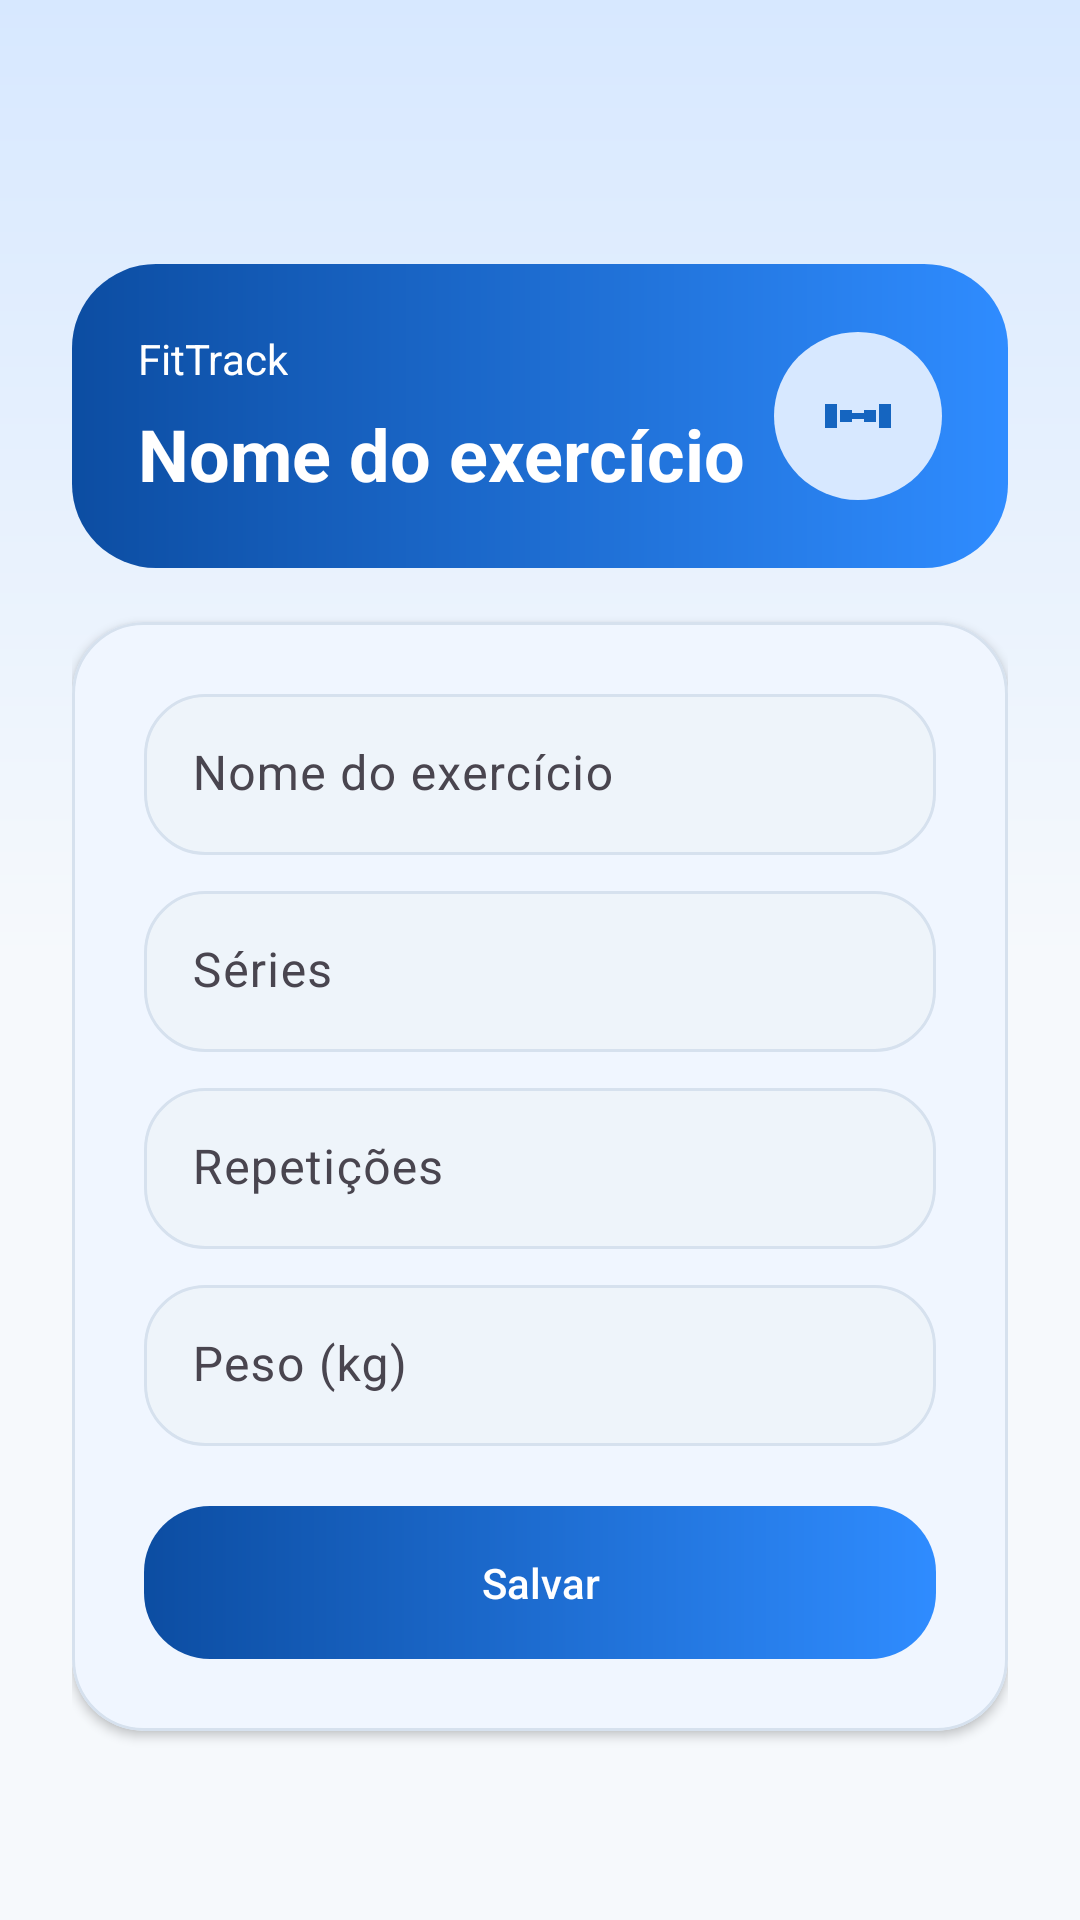

Where to tap for icons on this 1080px x 1920px app screen, as (x,y):
Adicionar exercício: (858,416)
